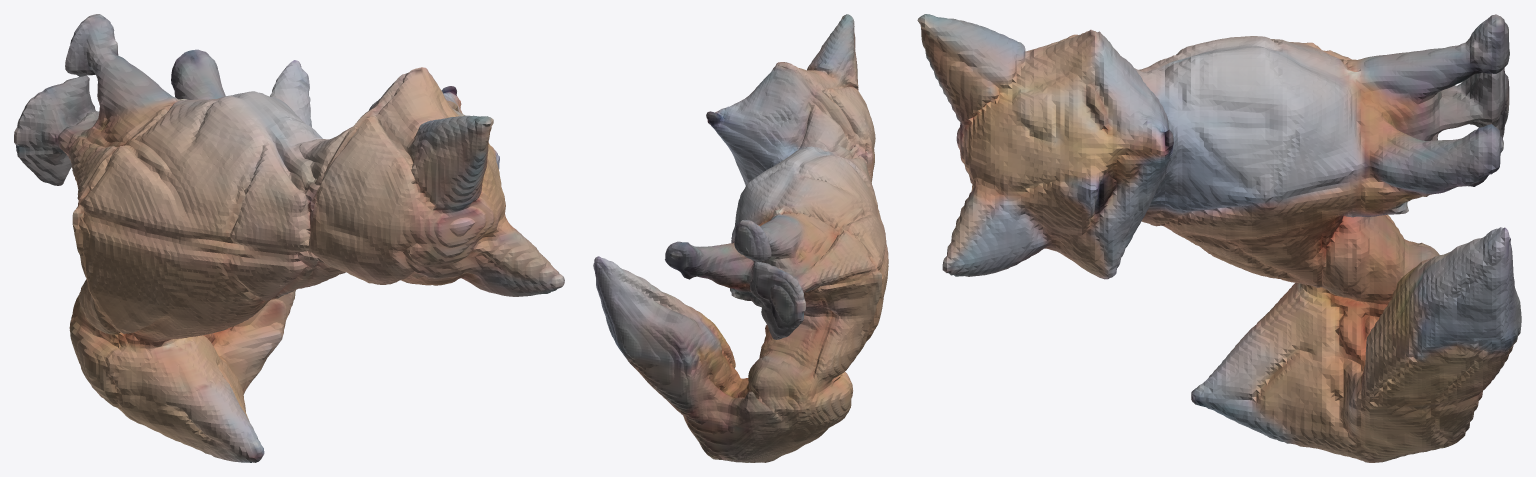
The model's file is foxy.glb.
The picture shows the model from 3 angles, left to right: view 1: azimuth 30°, elevation 25°; view 2: azimuth 150°, elevation 25°; view 3: azimuth 270°, elevation 25°; orthographic projection. The views are drawn at different scales.
Visible parts, largest first — view 1: world; view 2: world; view 3: world.
Part boxes in pixels (bbox=[...]): world: bbox=[14, 14, 564, 462]; world: bbox=[593, 14, 888, 462]; world: bbox=[917, 14, 1521, 462].
Bounding box in the file's own units: 0.6248 × 0.8415 × 0.9457.
